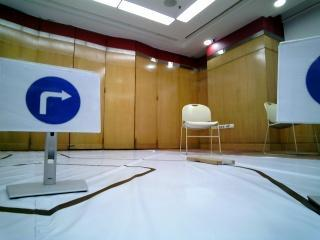right: (8, 66, 97, 130), (281, 45, 320, 123)
